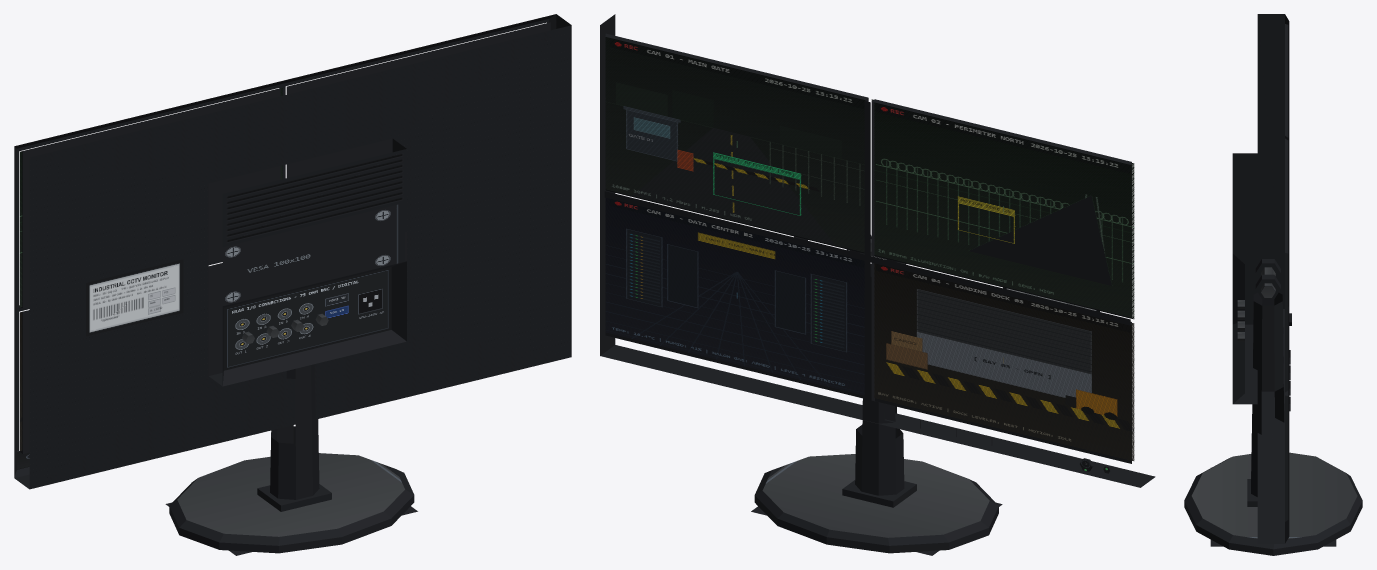
The model's file is SEC_Monitor_CCTV_Quad_LCD.fbx.
The picture shows the model from 3 angles, left to right: view 1: azimuth 30°, elevation 25°; view 2: azimuth 150°, elevation 25°; view 3: azimuth 270°, elevation 25°; orthographic projection. The views are drawn at different scales.
Visible parts, largest first — view 1: Display_Housing, Stand_Base, Stand_Neck, Screen_Top_Right; view 2: Display_Housing, Screen_Top_Left, Screen_Bottom_Right, Screen_Bottom_Left, Screen_Top_Right, Stand_Base, Stand_Neck; view 3: Display_Housing, Stand_Base, Stand_Neck.
Boxes of the visible parts, <box> form: Display_Housing: <box>14,14,571,489</box>; Stand_Base: <box>165,453,417,555</box>; Stand_Neck: <box>270,364,319,499</box>; Screen_Top_Right: <box>19,88,282,308</box>; Display_Housing: <box>600,14,1155,487</box>; Screen_Top_Left: <box>605,37,865,253</box>; Screen_Bottom_Right: <box>874,263,1134,460</box>; Screen_Bottom_Left: <box>605,198,864,395</box>; Screen_Top_Right: <box>871,99,1134,319</box>; Stand_Base: <box>751,454,1002,555</box>; Stand_Neck: <box>847,235,905,495</box>; Display_Housing: <box>1232,14,1291,543</box>; Stand_Base: <box>1184,452,1362,555</box>; Stand_Neck: <box>1251,259,1284,496</box>.
Size of the model in its own units: 53 by 39.5 by 17.
Materials: 3 (3 with a texture image).
